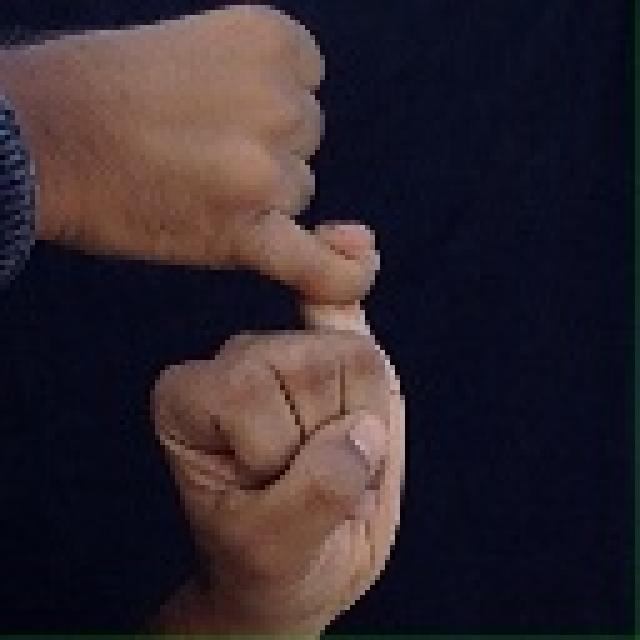Alphabet-S: (0, 1, 422, 638)
